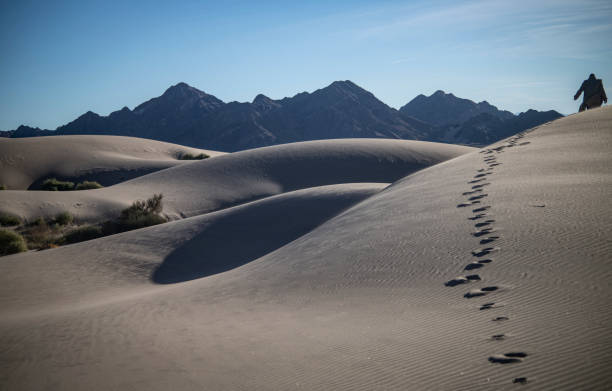human_foot_print: (444, 274, 480, 286), (488, 352, 526, 363), (464, 286, 498, 297), (464, 259, 491, 270), (472, 247, 499, 256), (472, 227, 495, 237), (479, 236, 499, 244), (474, 219, 494, 227), (468, 213, 489, 220), (472, 205, 490, 212), (472, 183, 489, 189)
